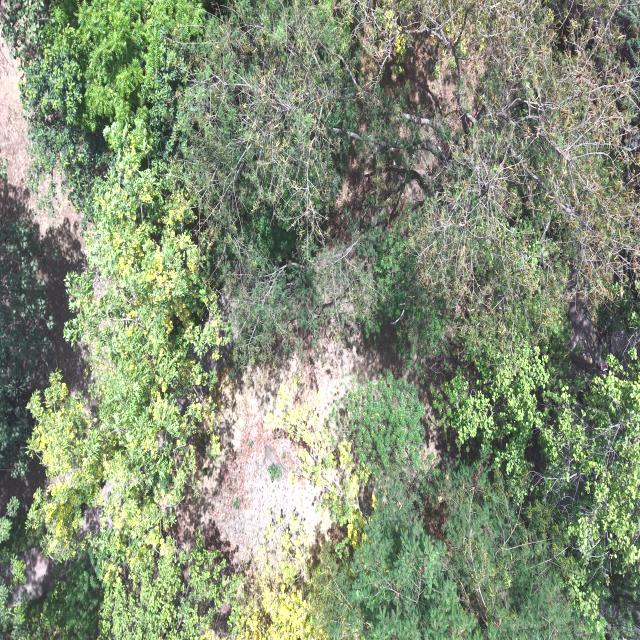DRY_AREA: (175, 323, 406, 563), (175, 323, 405, 562), (177, 323, 407, 561), (178, 323, 406, 562), (178, 323, 406, 561), (175, 335, 401, 561), (176, 333, 397, 562), (177, 340, 357, 562), (176, 341, 356, 560), (178, 351, 353, 559), (332, 31, 485, 234), (0, 37, 86, 389), (0, 40, 86, 389), (0, 40, 83, 262), (381, 31, 486, 127), (0, 37, 32, 222), (0, 42, 32, 218), (568, 294, 638, 371), (568, 296, 605, 367), (10, 547, 55, 604)
VEGETATION_TREE: (0, 0, 639, 639), (12, 2, 638, 358), (183, 2, 639, 358), (5, 2, 223, 561), (317, 342, 638, 637), (29, 114, 223, 558), (412, 2, 639, 357), (181, 2, 351, 356), (440, 345, 639, 627), (314, 462, 589, 639), (4, 1, 203, 220), (315, 483, 481, 639), (10, 538, 238, 639), (101, 536, 239, 639), (0, 220, 51, 476), (230, 514, 325, 639), (345, 372, 429, 476), (11, 556, 102, 639), (0, 496, 25, 632)
